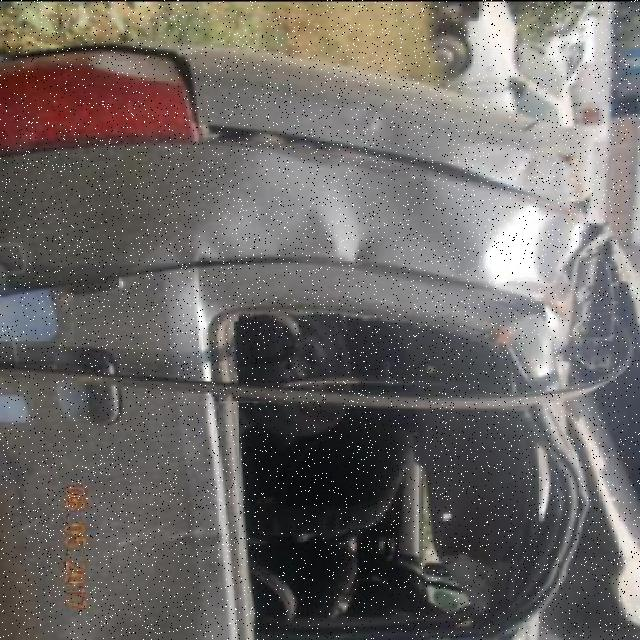damage: (525, 145, 636, 640), (176, 164, 462, 261), (201, 120, 528, 198), (482, 203, 572, 299), (442, 138, 569, 198), (164, 530, 221, 554), (362, 112, 403, 141)
